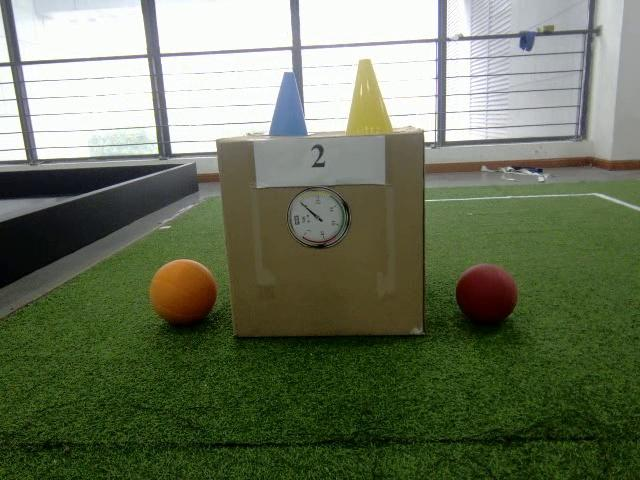2: (310, 143, 328, 174)
Dashboard: (289, 187, 353, 247)
blue_barrel: (266, 73, 308, 137)
orange_ball: (151, 259, 217, 326)
red_ball: (456, 262, 518, 326)
ssi: (291, 215, 302, 230)
yellow_barrel: (344, 59, 391, 135)
